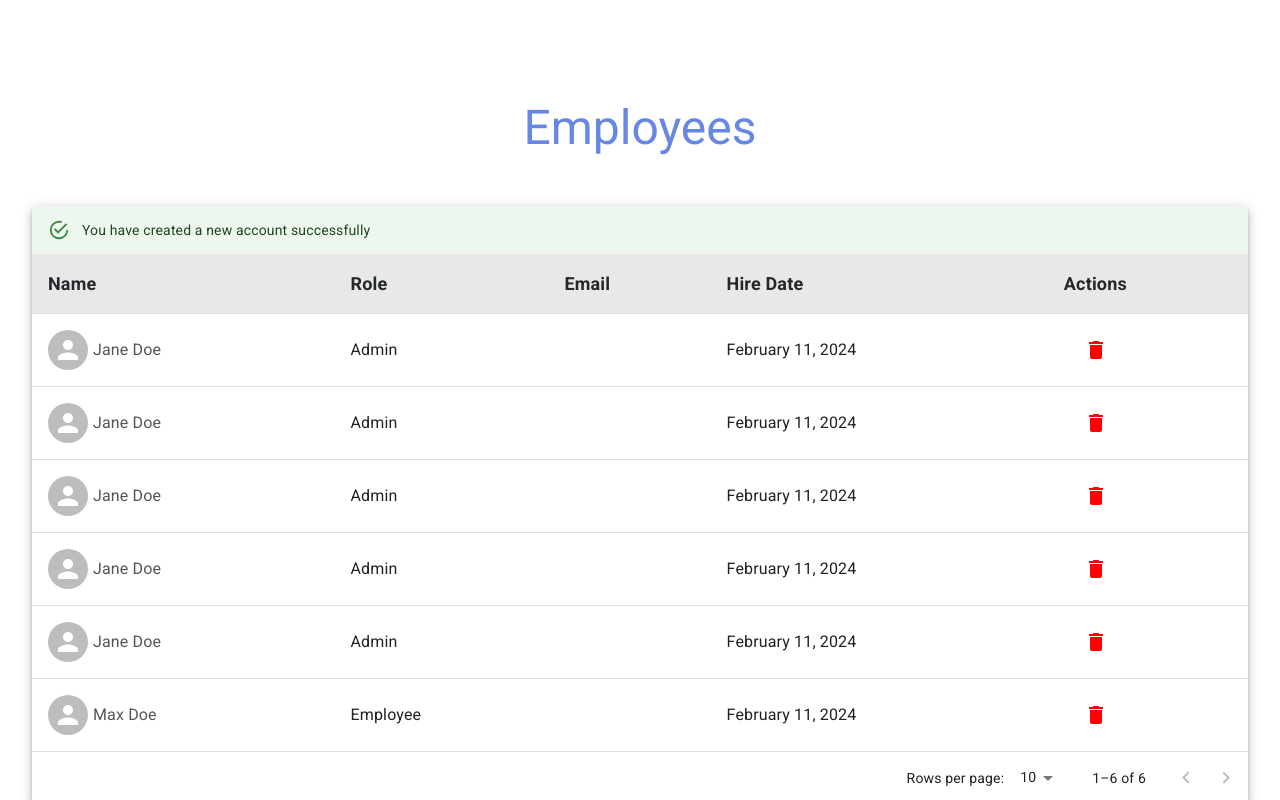
Test: EmployeeTable › when paginating › should be able to change rows per page
Expected: the text "Max Doe" is shown, 93,703 -> 157,727
# click on the select for Rows per page
Step 1. Click the dropdown named "Rows per page:" → (1028, 778), box 1020,770 -> 1036,786
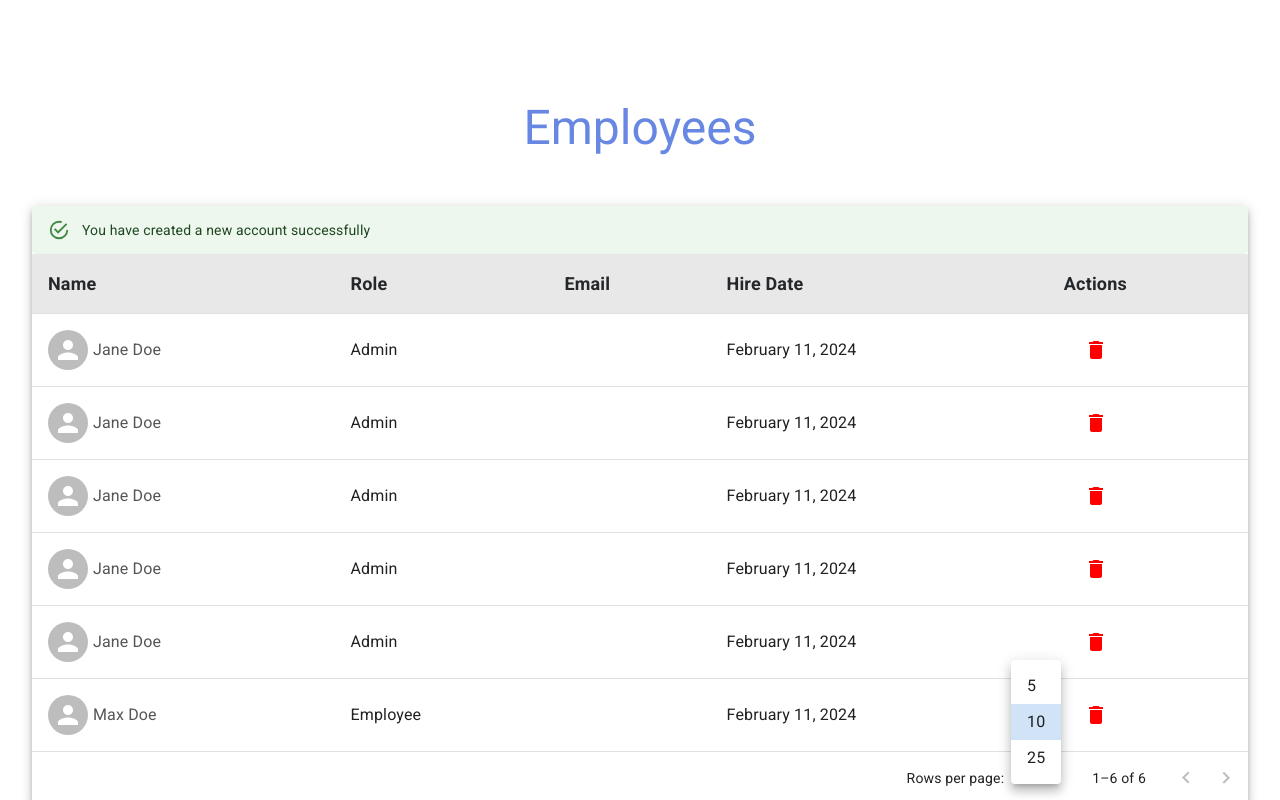
# we select on 5 (Max is the 6th entry)
Step 2. Click the option "5" → (1032, 686), box 1027,676 -> 1036,695
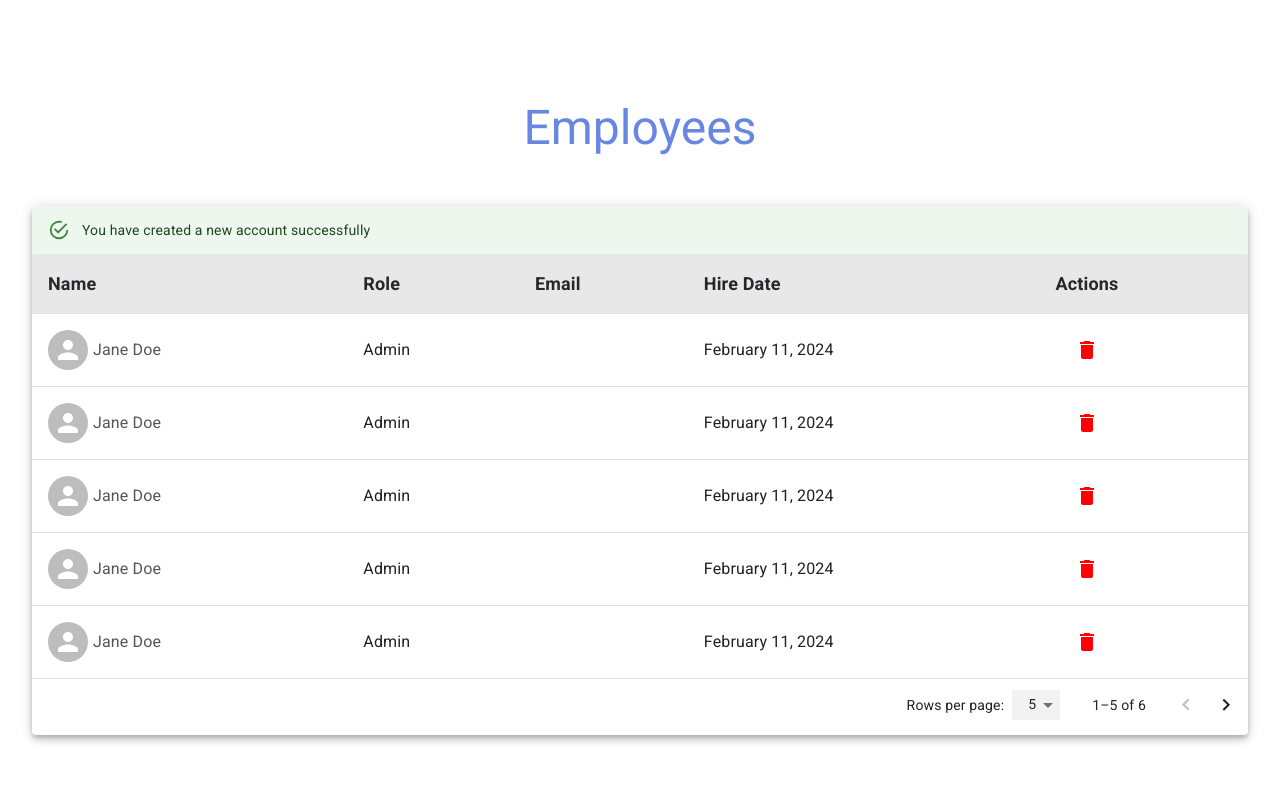
Expected: the link "Max Doe" is gone
